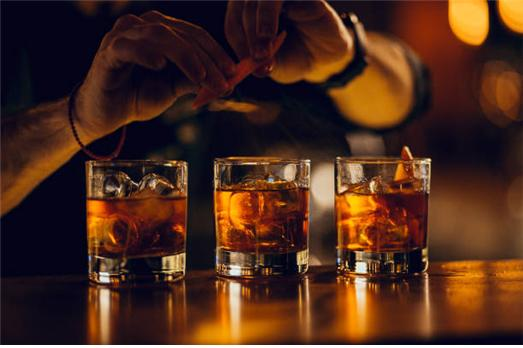alcohol: (86, 160, 186, 290), (212, 158, 310, 281), (335, 158, 430, 281)
